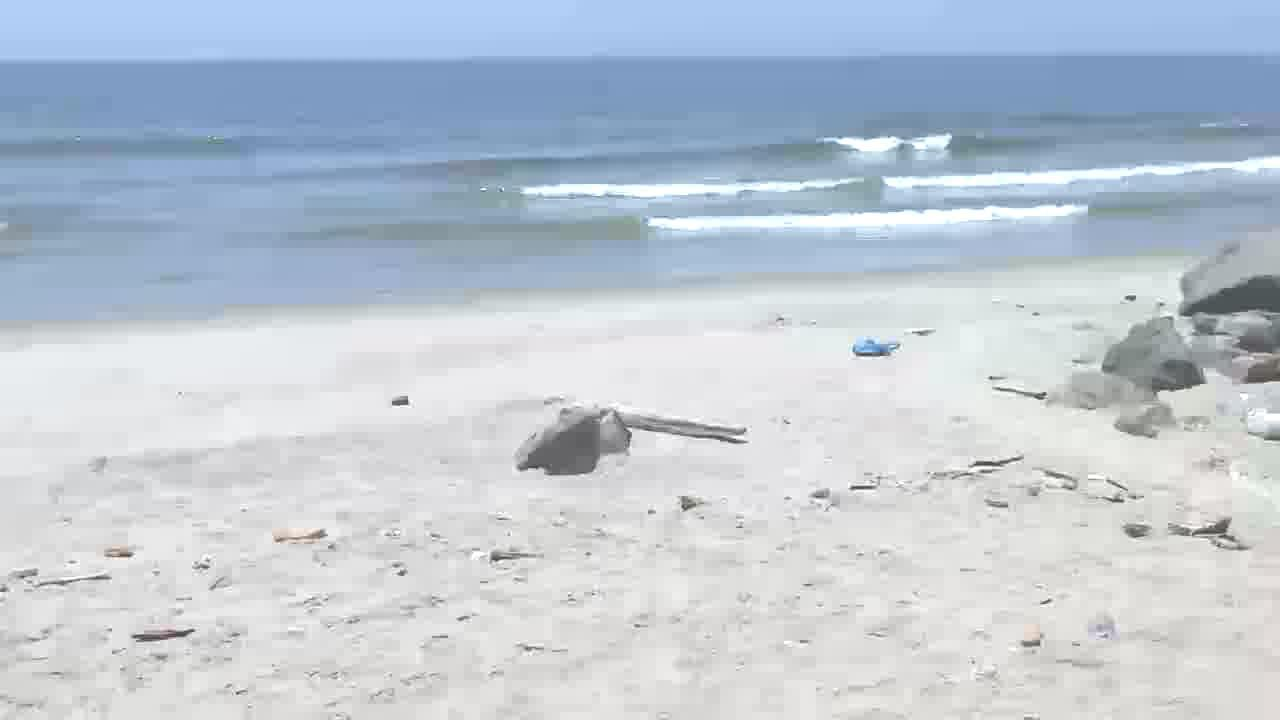large collection of objects: (1093, 233, 1279, 396), (516, 410, 628, 479)
obj: (560, 400, 750, 439), (851, 334, 902, 358), (130, 623, 193, 642), (270, 526, 328, 544), (990, 384, 1046, 400)
sand/background: (0, 0, 1279, 348)
